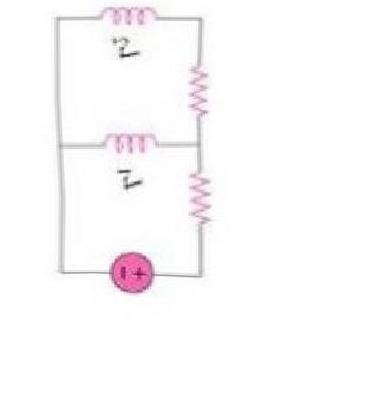Battery: (92, 242, 166, 313)
